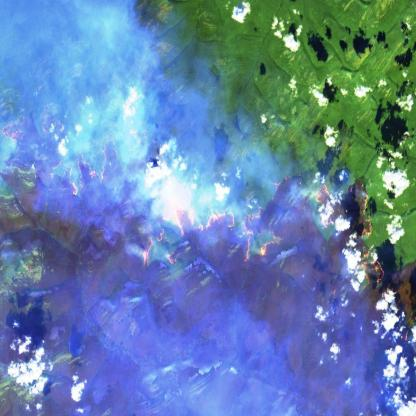fire: (1, 104, 416, 348)
